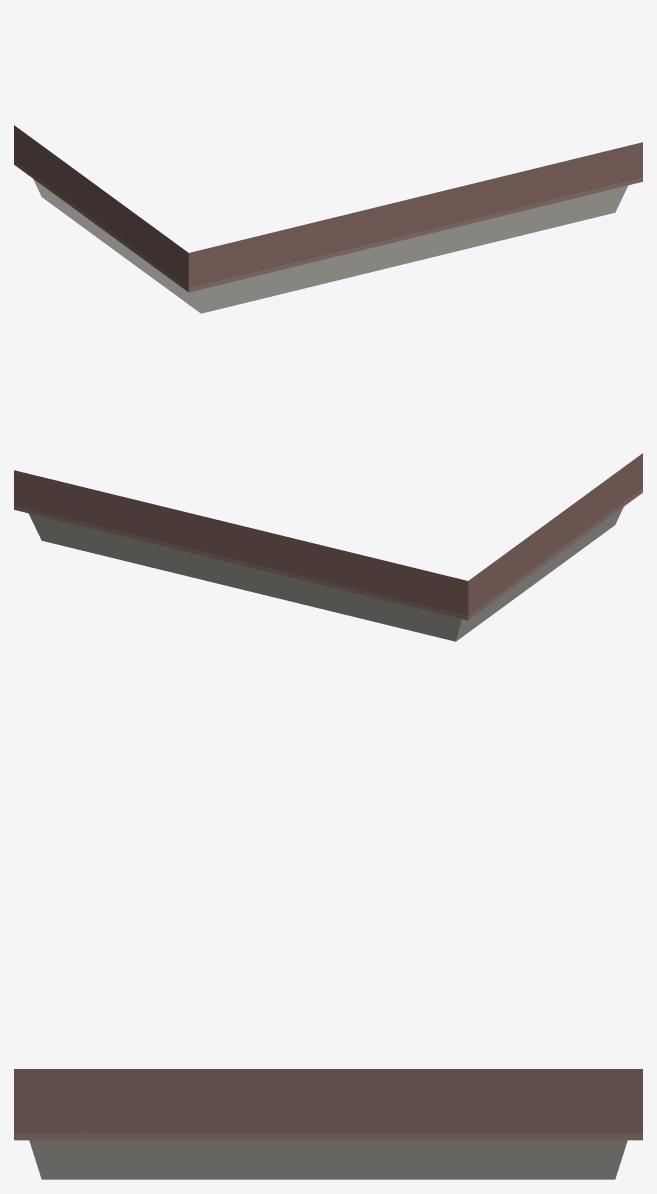
The model's file is kd_stage_135b75_4_78.glb.
The picture shows the model from 3 angles, top to bottom: view 1: azimuth 30°, elevation 25°; view 2: azimuth 150°, elevation 25°; view 3: azimuth 270°, elevation 25°; orthographic projection. The views are drawn at different scales.
Visible parts, largest first — view 1: kd_stage_135b75_4_78; view 2: kd_stage_135b75_4_78; view 3: kd_stage_135b75_4_78.
Part boxes in pixels (x1=…): kd_stage_135b75_4_78: x1=14, y1=125, x2=642, y2=313; kd_stage_135b75_4_78: x1=14, y1=453, x2=642, y2=641; kd_stage_135b75_4_78: x1=14, y1=1069, x2=642, y2=1179.
Bounding box in the file's own units: 1.2 × 0.18 × 0.8.
Materials: 1 (1 with a texture image).
